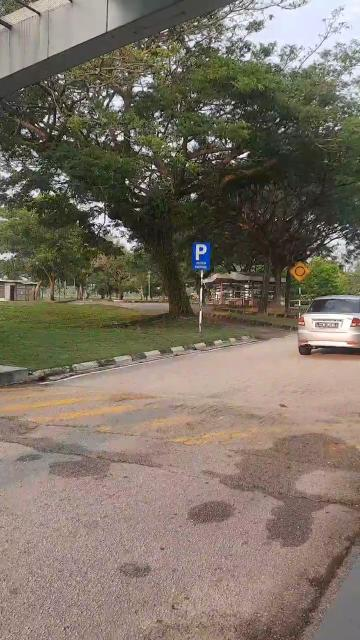car: (296, 286, 360, 366)
